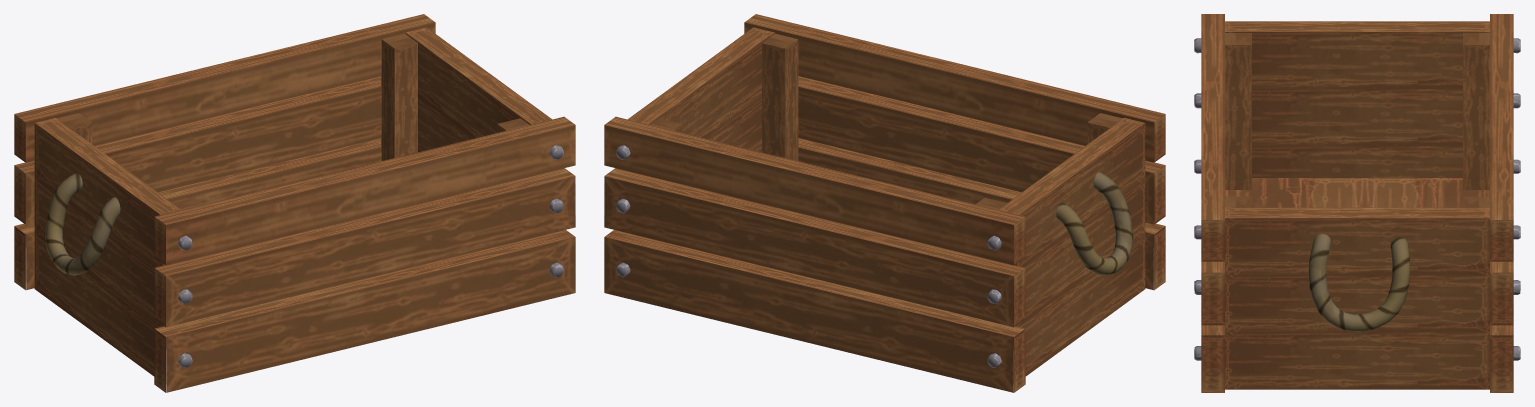
File: FarmCrate_Empty.gltf
3 views of the same model, side by side, from view 1: azimuth 30°, elevation 25°; view 2: azimuth 150°, elevation 25°; view 3: azimuth 270°, elevation 25° (orthographic). The views are drawn at different scales.
Visible parts, largest first — view 1: FarmCrate_Empty; view 2: FarmCrate_Empty; view 3: FarmCrate_Empty.
Boxes of the visible parts, bbox=[...] form: FarmCrate_Empty: bbox=[14, 14, 575, 392]; FarmCrate_Empty: bbox=[604, 14, 1165, 392]; FarmCrate_Empty: bbox=[1194, 14, 1520, 392].
Bounding box in the file's own units: 0.7138 × 0.2438 × 0.4142.
Materials: 2 (2 with a texture image).
